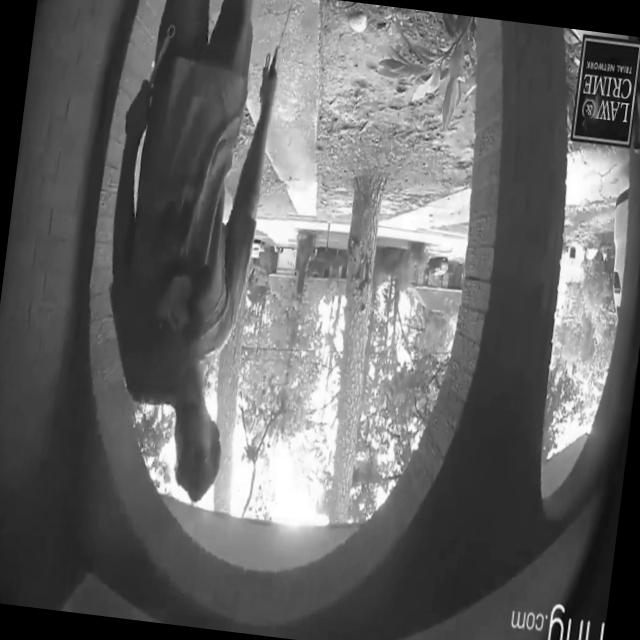weapon: (89, 0, 319, 522), (239, 0, 306, 122)
